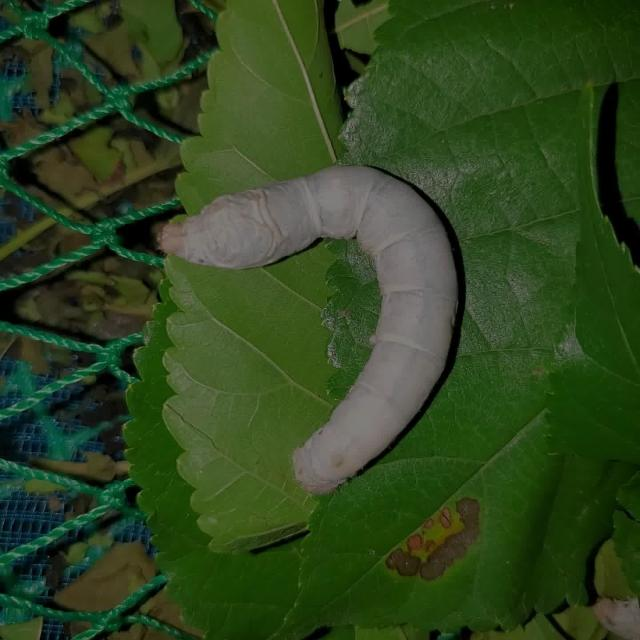Healthy: (150, 159, 468, 502)
